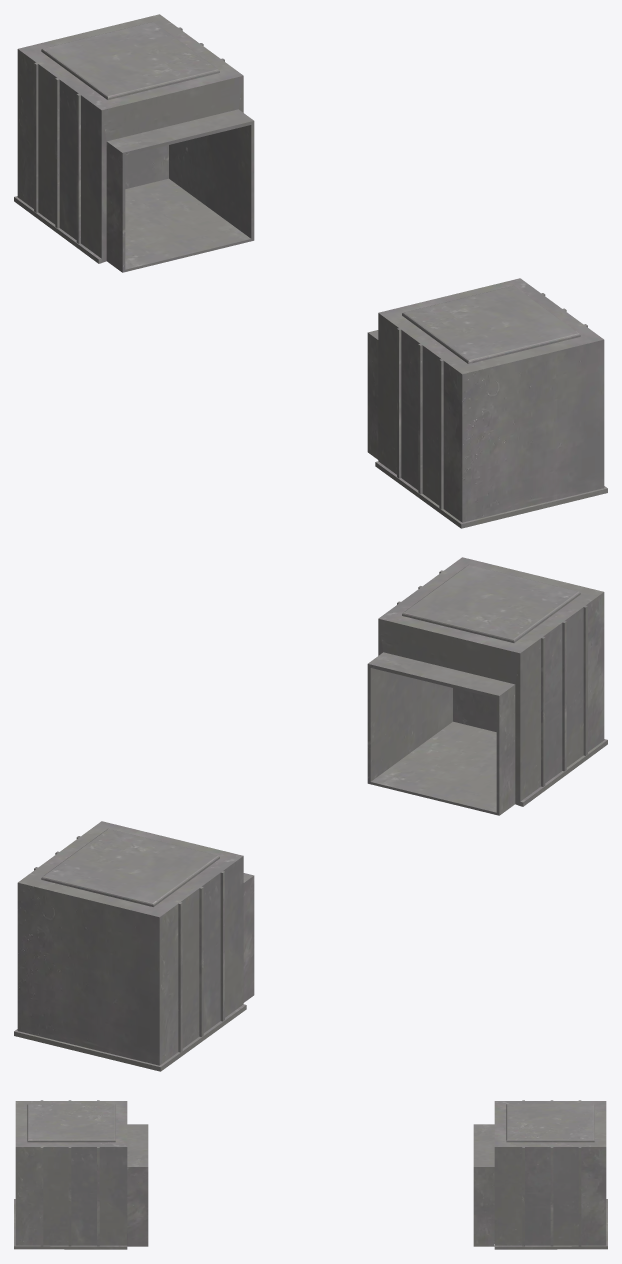
Rendered from CASSONI_001.glb.
The picture shows the model from 3 angles, top to bottom: view 1: azimuth 30°, elevation 25°; view 2: azimuth 150°, elevation 25°; view 3: azimuth 270°, elevation 25°; orthographic projection. The views are drawn at different scales.
Visible parts, largest first — view 1: cassone.001, cassone; view 2: cassone, cassone.001; view 3: cassone, cassone.001.
Boxes of the visible parts, x1,y1,x2,y2 form: cassone.001: (14, 14, 254, 272); cassone: (367, 278, 607, 528); cassone: (367, 557, 607, 815); cassone.001: (14, 821, 254, 1071); cassone: (14, 1100, 148, 1249); cassone.001: (473, 1100, 607, 1249).
Size of the model in its own units: 2.08 by 2.1 by 10.91.
Materials: 1 (1 with a texture image).
